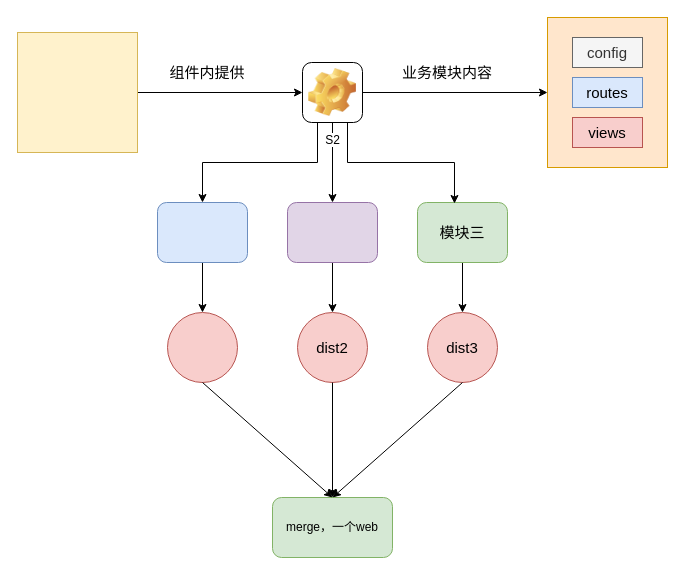
Image size: 685x575. Some labels were removed from this diagram. Here are the shapes that lost their labels. From the top down, the centre of each, then its label:
[77,92]: webpack router style ui
[202,232]: 模块一
[332,232]: 模块二
[202,347]: dist1
